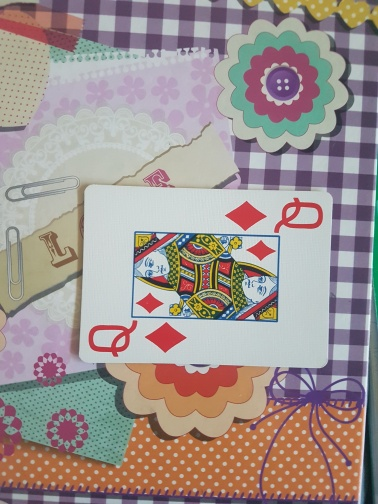queen: (78, 186, 336, 364)
